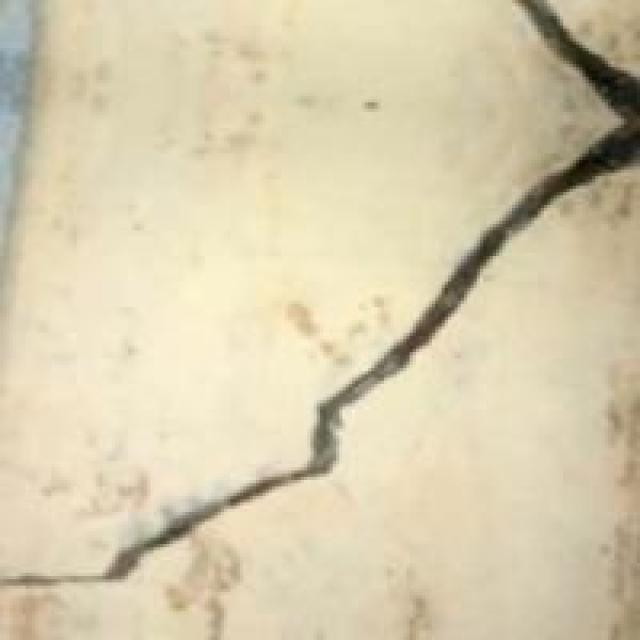Crack: (13, 0, 637, 602)
